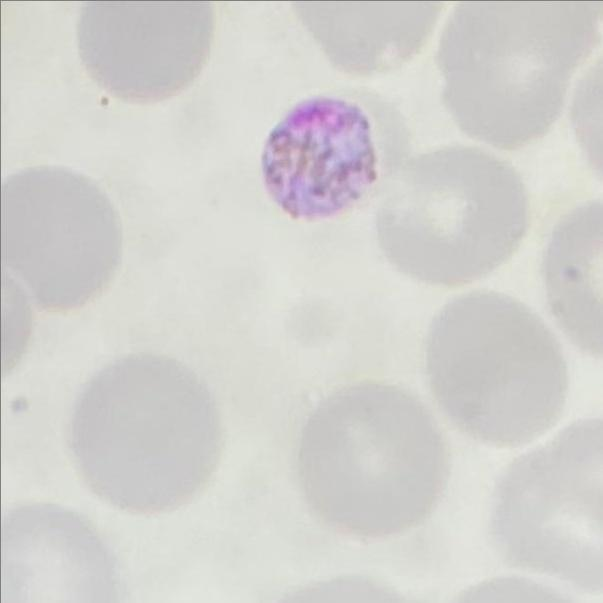Infected: (260, 91, 381, 224)
Uninfected: (68, 352, 214, 515), (298, 382, 449, 536), (443, 0, 596, 151), (425, 289, 566, 447), (380, 147, 529, 290), (0, 166, 123, 315), (495, 426, 603, 592), (72, 0, 217, 98)
